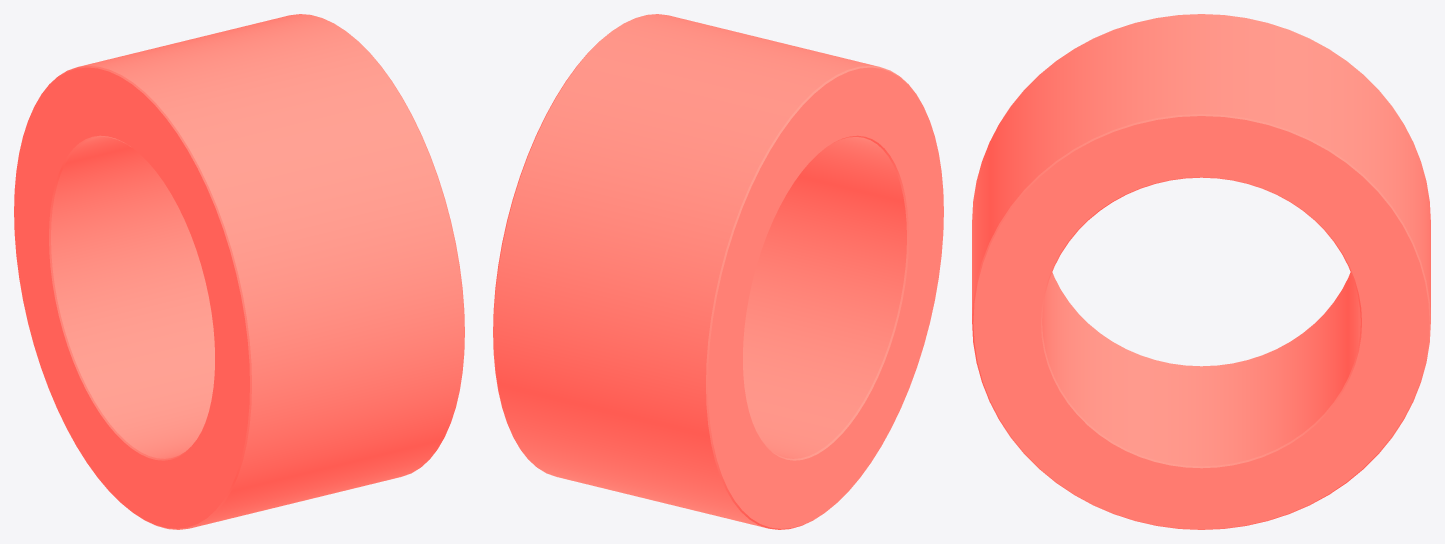
3 renders of one model, left to right at view 1: azimuth 30°, elevation 25°; view 2: azimuth 150°, elevation 25°; view 3: azimuth 270°, elevation 25°, orthographic. The views are drawn at different scales.
Parts seen in each view (by area): view 1: PS_Lamp_Circle_0; view 2: PS_Lamp_Circle_0; view 3: PS_Lamp_Circle_0.
Boxes of the visible parts, bbox=[...] form: PS_Lamp_Circle_0: bbox=[14, 14, 464, 529]; PS_Lamp_Circle_0: bbox=[493, 14, 943, 529]; PS_Lamp_Circle_0: bbox=[972, 14, 1430, 529].
Size of the model in its own units: 0.0328 by 0.0628 by 0.0628.
